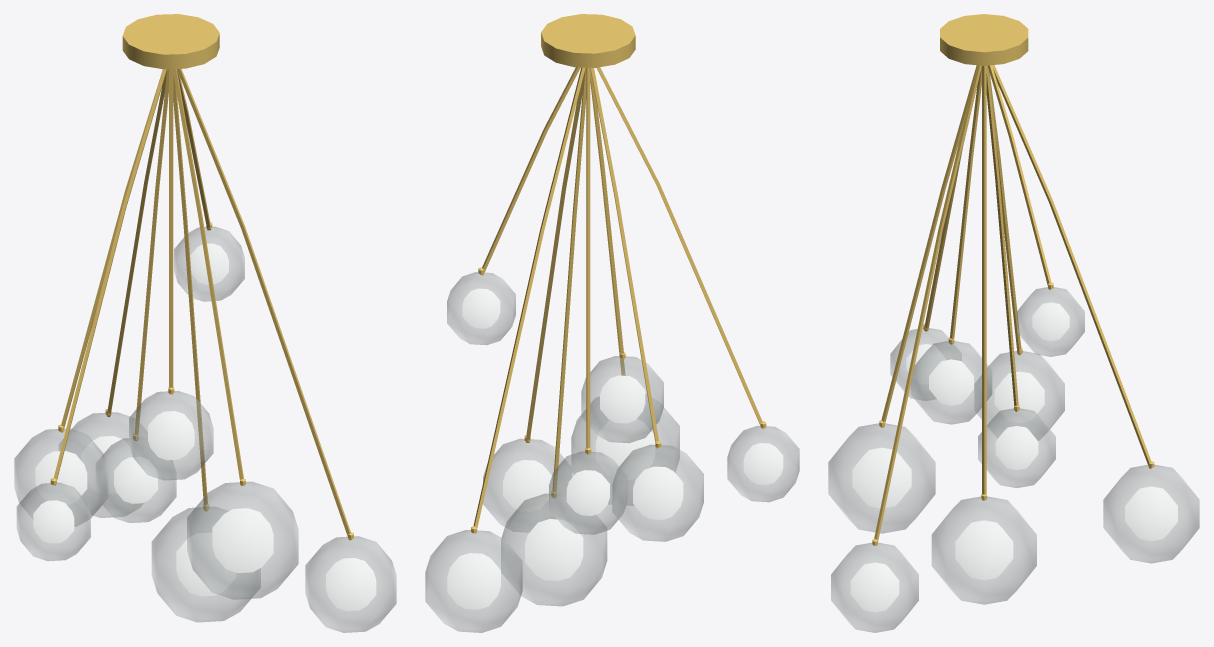
The model's file is chandelier_orbs.glb.
3 renders of one model, left to right at view 1: azimuth 30°, elevation 25°; view 2: azimuth 150°, elevation 25°; view 3: azimuth 270°, elevation 25°, orthographic. The views are drawn at different scales.
Parts seen in each view (by area): view 1: chandelier_orbs; view 2: chandelier_orbs; view 3: chandelier_orbs.
Part boxes in pixels (box(x1,y1,x2,y2)): chandelier_orbs: box(14, 14, 396, 632); chandelier_orbs: box(425, 14, 799, 632); chandelier_orbs: box(828, 14, 1199, 632).
Size of the model in its own units: 0.9789 by 1.61 by 0.9839.
